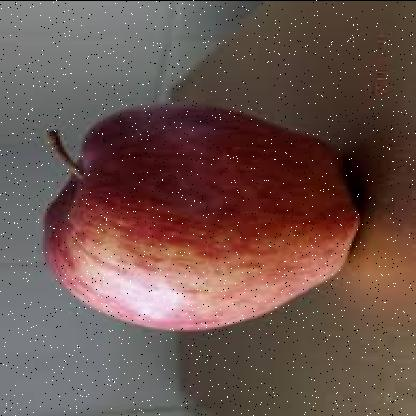apple: (47, 108, 373, 326)
